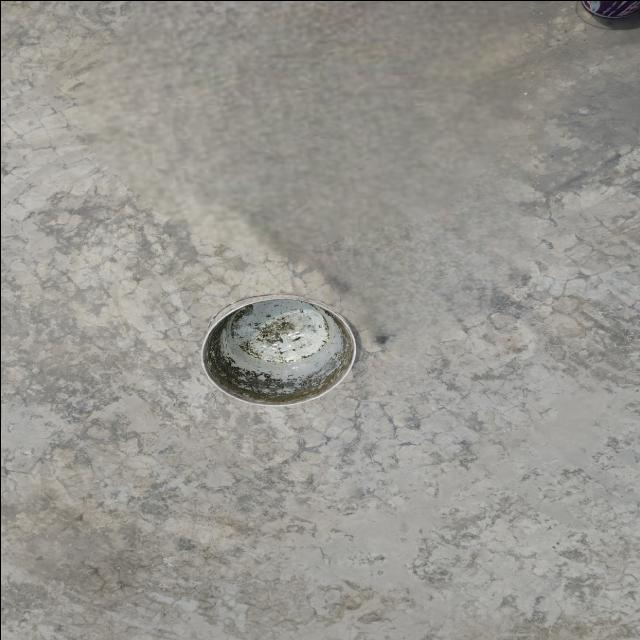Breeding Place: (173, 283, 378, 423), (554, 0, 640, 42)
